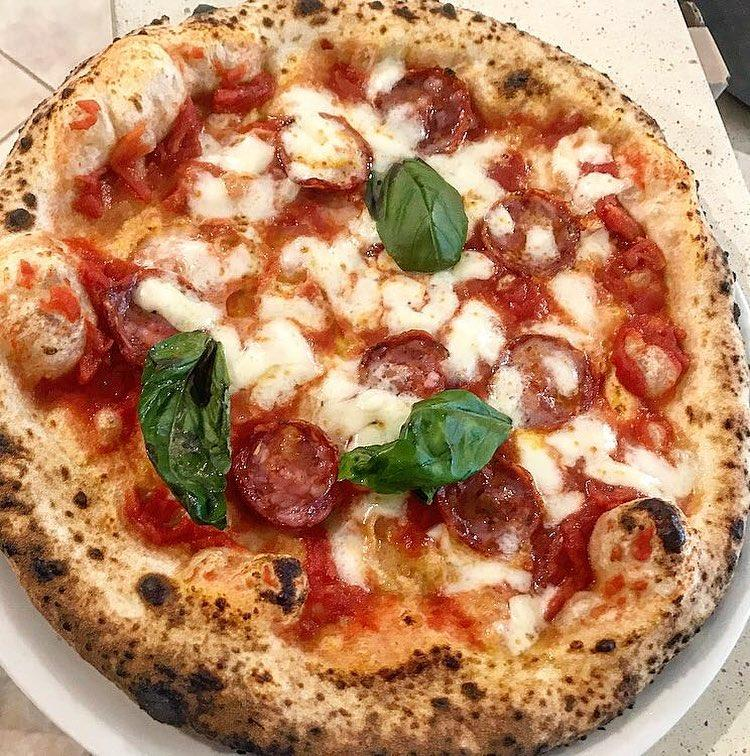Basil: (149, 341, 227, 520), (351, 397, 505, 480), (374, 160, 469, 272)
Pepperoni: (89, 260, 213, 364), (232, 418, 340, 529), (488, 333, 599, 432), (439, 455, 544, 557), (482, 189, 579, 279), (376, 65, 472, 154), (276, 112, 372, 188), (358, 330, 455, 397)
Pizza: (0, 0, 750, 756)
